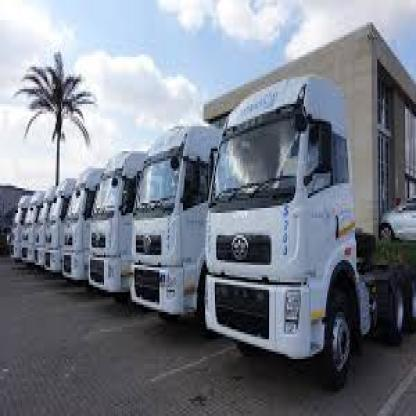dump_truck: (201, 80, 415, 382), (130, 136, 214, 324), (90, 136, 140, 312), (60, 154, 101, 284)
